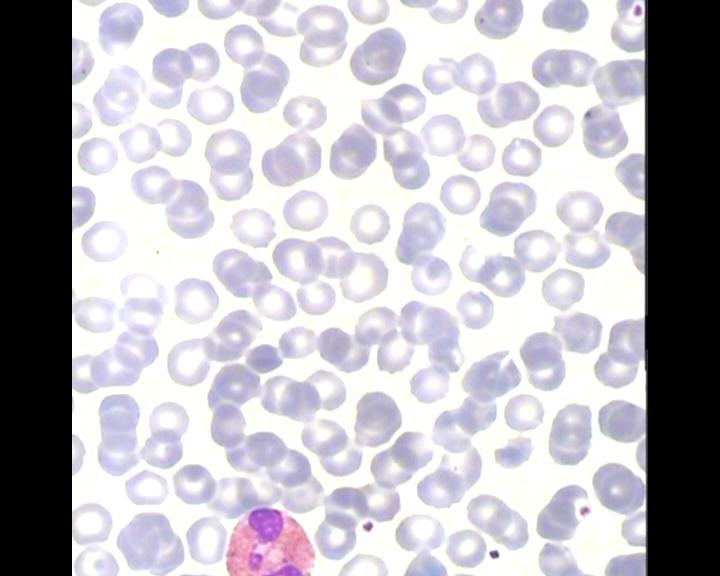eosi: (219, 505, 321, 576)
